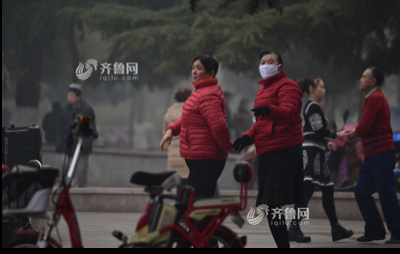with_mask: (257, 56, 278, 78)
without_mask: (189, 60, 208, 82), (357, 70, 370, 89), (313, 82, 326, 98)
